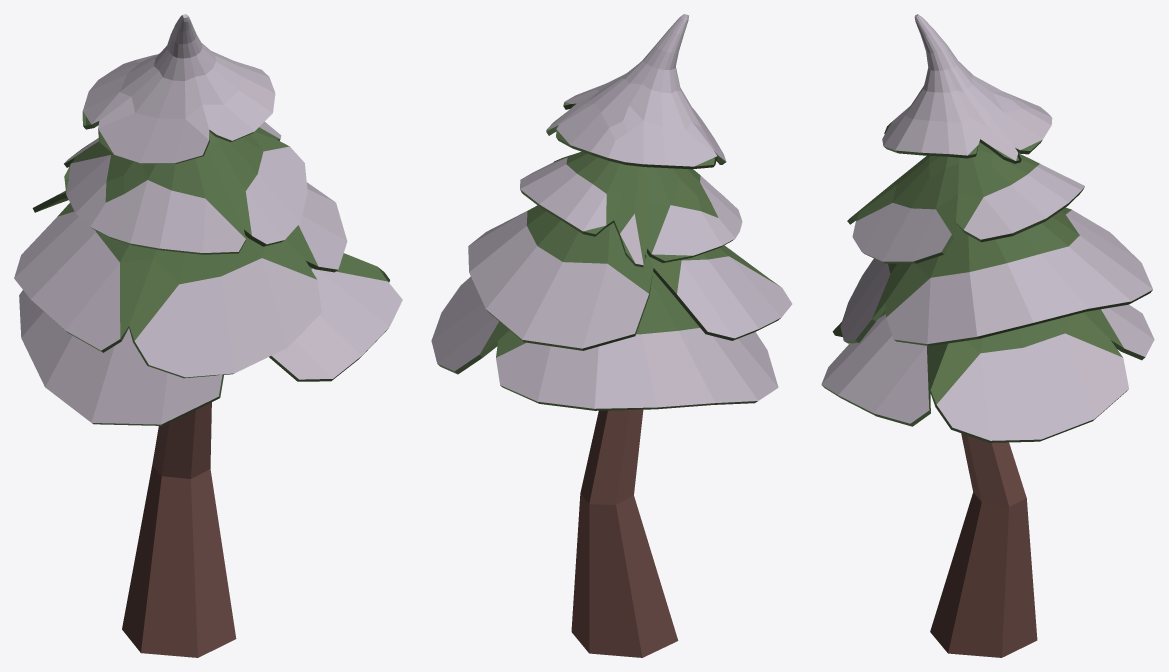
The model's file is pinetree_snow_5.glb.
3 views of the same model, side by side, from view 1: azimuth 30°, elevation 25°; view 2: azimuth 150°, elevation 25°; view 3: azimuth 270°, elevation 25° (orthographic). The views are drawn at different scales.
Parts seen in each view (by area): view 1: PineTree_Snow_5; view 2: PineTree_Snow_5; view 3: PineTree_Snow_5.
Part boxes in pixels (<box>): PineTree_Snow_5: <box>14,14,402,657</box>; PineTree_Snow_5: <box>431,14,792,657</box>; PineTree_Snow_5: <box>821,14,1154,657</box>.
Bounding box in the file's own units: 3.53 × 6.47 × 3.21.
